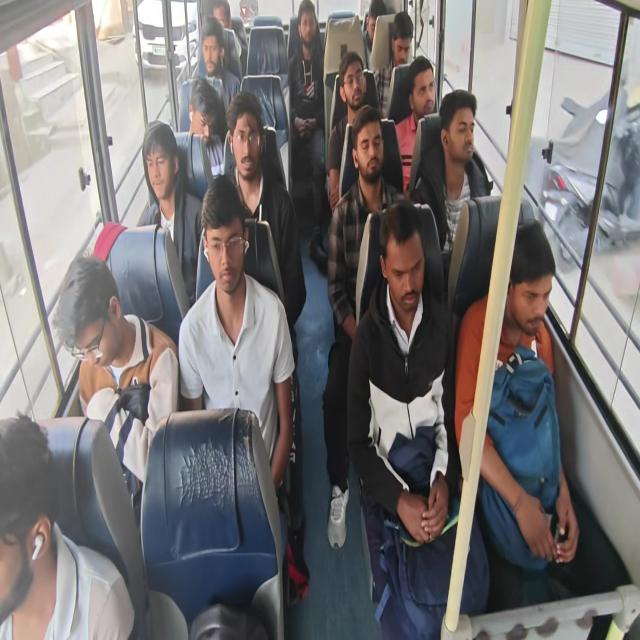person: (454, 217, 631, 617), (346, 200, 490, 638), (178, 173, 296, 493), (322, 104, 406, 549), (51, 253, 179, 501), (0, 411, 135, 638), (199, 91, 306, 338), (136, 120, 203, 304), (413, 88, 478, 255), (288, 1, 326, 267), (327, 51, 368, 214), (394, 55, 436, 193), (199, 15, 240, 113), (187, 76, 225, 178), (378, 11, 414, 115), (211, 0, 244, 79), (362, 0, 387, 69), (390, 10, 413, 68)
